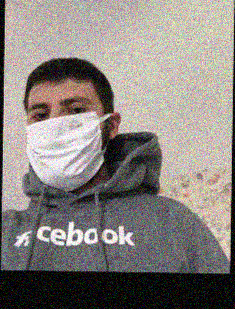with_mask: (25, 95, 105, 192)
